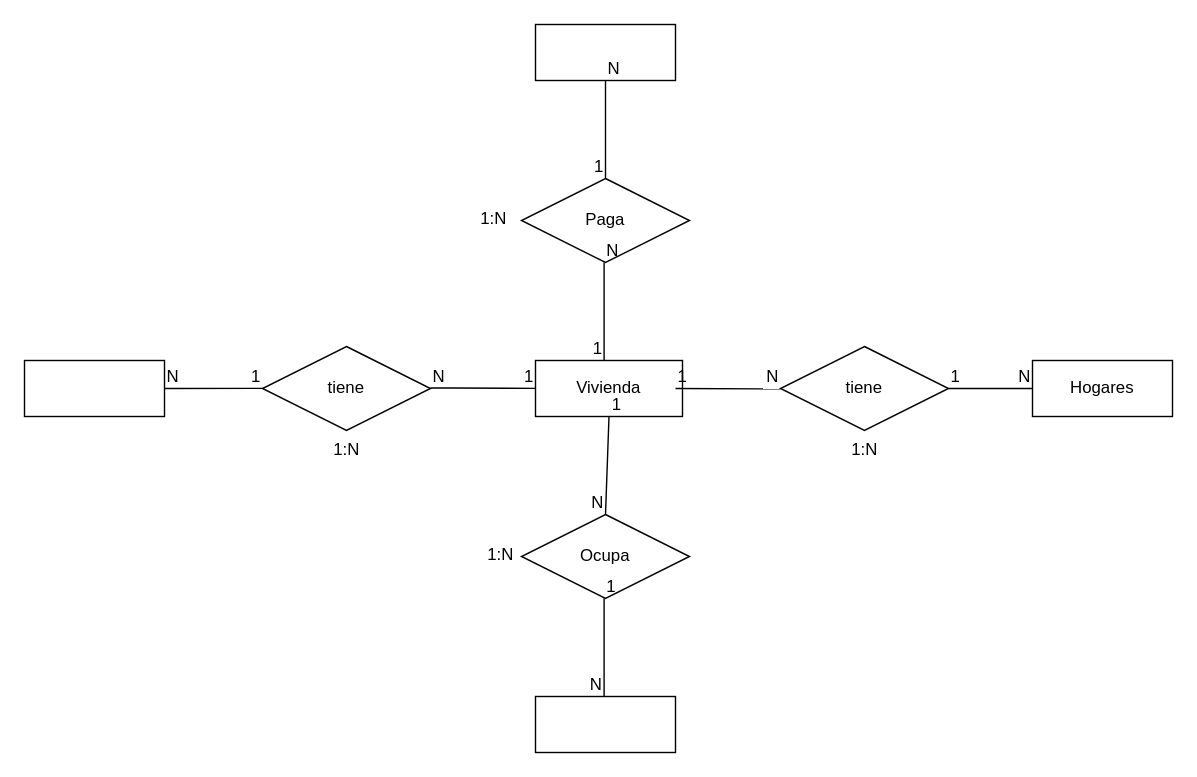
This 1197x777 diagram has some shape labels left out. The centre of each missing label's shape, as x and y in pixels:
"Combustible" belongs at (605,723).
"Gastos" belongs at (605,51).
"Servicios" belongs at (93,387).
